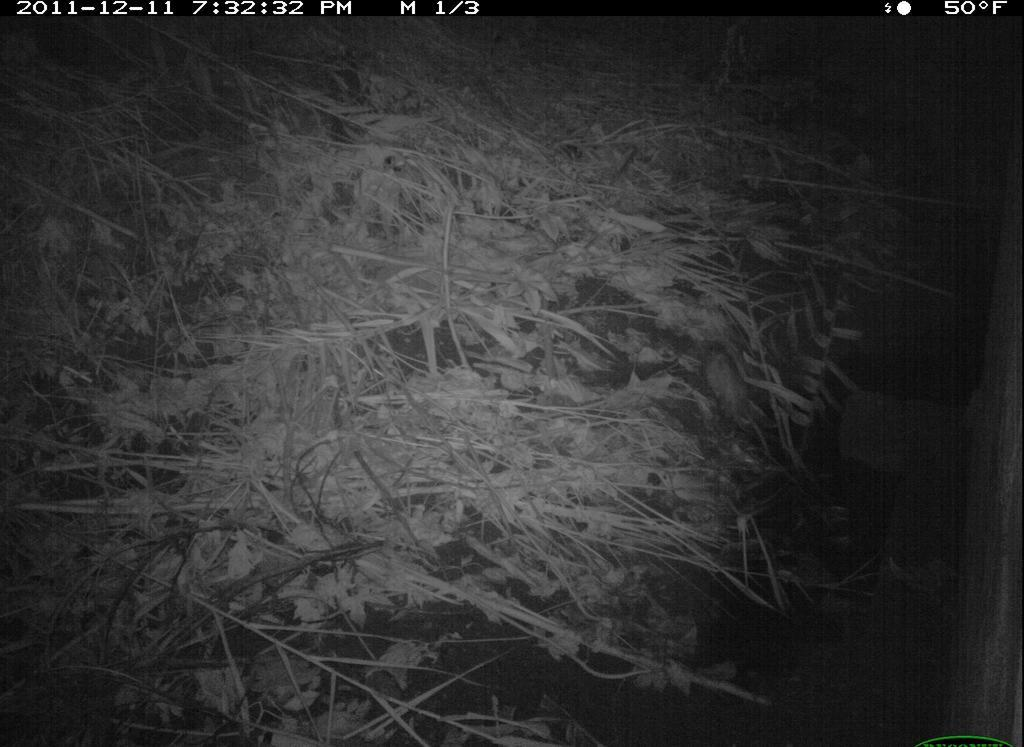opossum: (684, 329, 793, 478)
